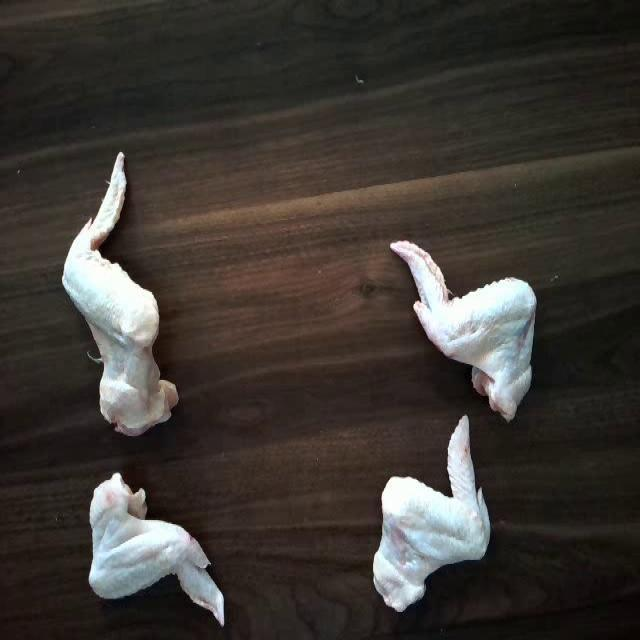wing: (63, 146, 181, 438), (383, 230, 532, 422), (362, 406, 496, 619), (83, 478, 229, 624)
